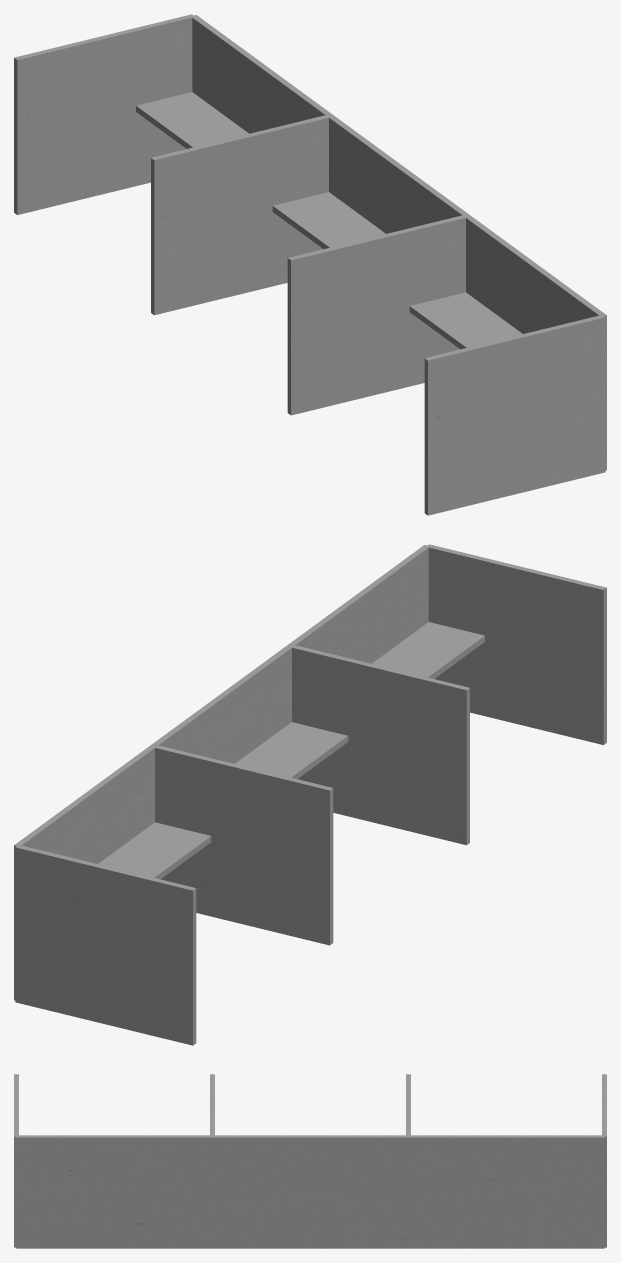
The model's file is cubicle.glb.
3 renders of one model, top to bottom at view 1: azimuth 30°, elevation 25°; view 2: azimuth 150°, elevation 25°; view 3: azimuth 270°, elevation 25°, orthographic. The views are drawn at different scales.
Parts seen in each view (by area): view 1: wall; view 2: wall; view 3: wall.
Part boxes in pixels (<box>): wall: <box>14,14,606,515</box>; wall: <box>14,544,606,1045</box>; wall: <box>14,1074,606,1248</box>.
Bounding box in the file's own units: 3.05 × 2.5 × 12.1.
Materials: 1 (1 with a texture image).
